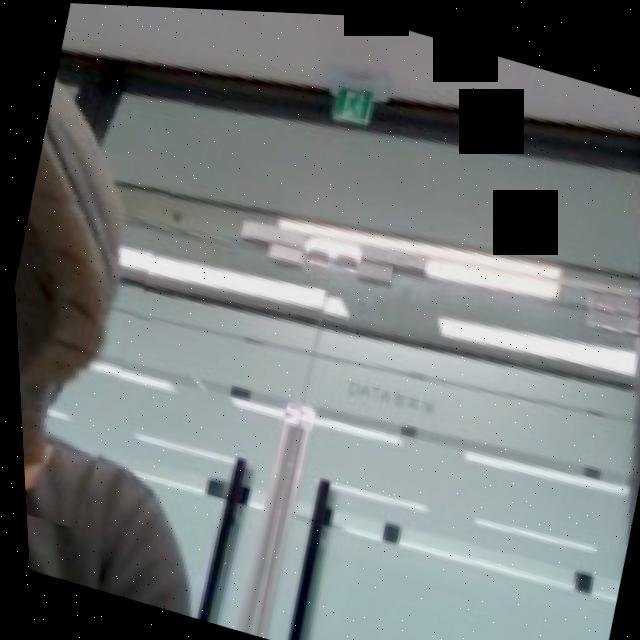shoe: (2, 47, 216, 542)
